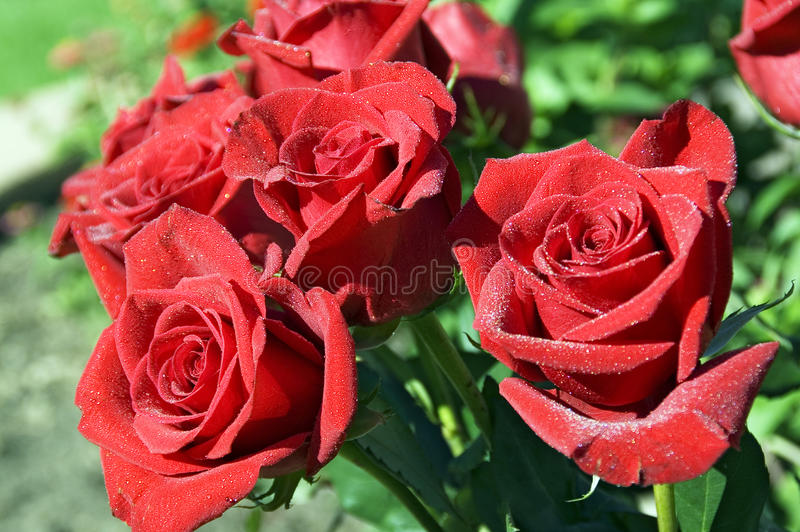RedRose: (454, 89, 779, 478), (68, 203, 362, 532), (231, 57, 473, 328), (32, 53, 270, 273), (220, 0, 473, 110), (716, 0, 800, 132)
